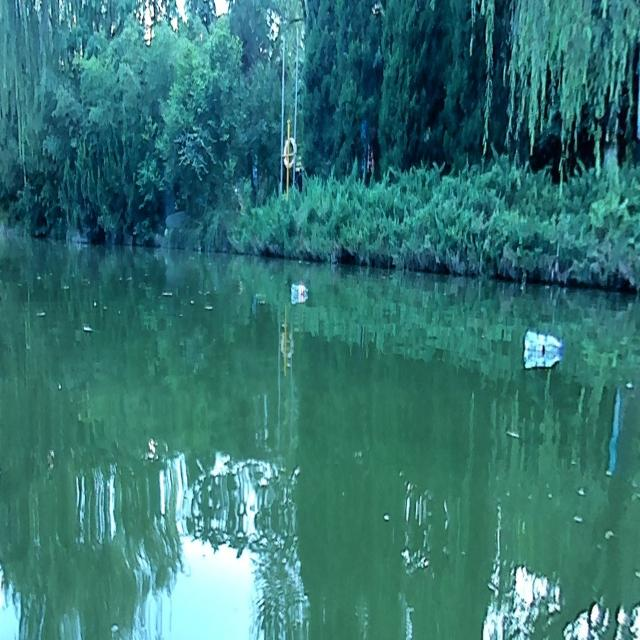bottle: (525, 329, 563, 353), (290, 279, 308, 294)
